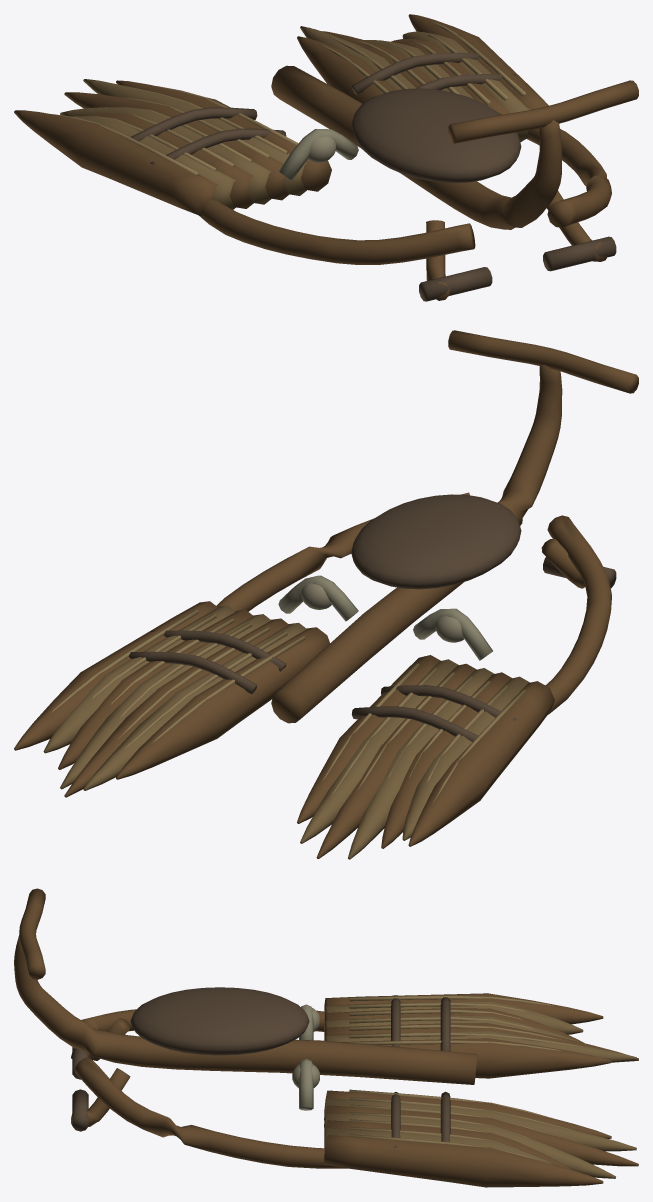
File: GRAUSEL_BROOM_GLIDER.hi.glb
3 views of the same model, one above another, from view 1: azimuth 30°, elevation 25°; view 2: azimuth 150°, elevation 25°; view 3: azimuth 270°, elevation 25° (orthographic). The views are drawn at different scales.
Parts seen in each view (by area): view 1: GRAUSEL_BROOM_GLIDER_hi; view 2: GRAUSEL_BROOM_GLIDER_hi; view 3: GRAUSEL_BROOM_GLIDER_hi.
Part boxes in pixels (left/top/right/bottom): GRAUSEL_BROOM_GLIDER_hi: left=14, top=14, right=638, bottom=301; GRAUSEL_BROOM_GLIDER_hi: left=14, top=330, right=638, bottom=859; GRAUSEL_BROOM_GLIDER_hi: left=14, top=888, right=638, bottom=1187.
Size of the model in its own units: 1.23 by 0.6395 by 1.88.
